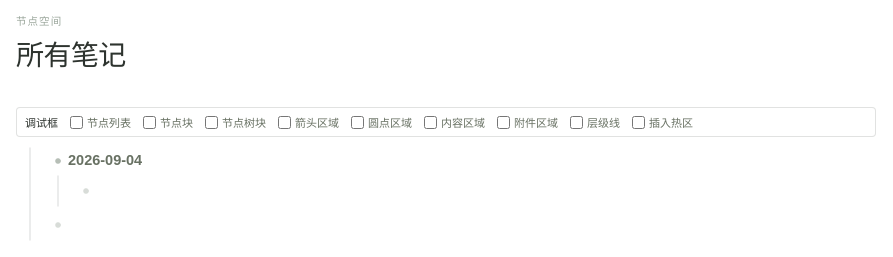
Test: NotebookPanel node range selection › draws one debug block for every rendered node row
The image size is (893, 257).
Click the checkbox labelled "节点块". click: x=150, y=122
box: [143, 116, 156, 128]
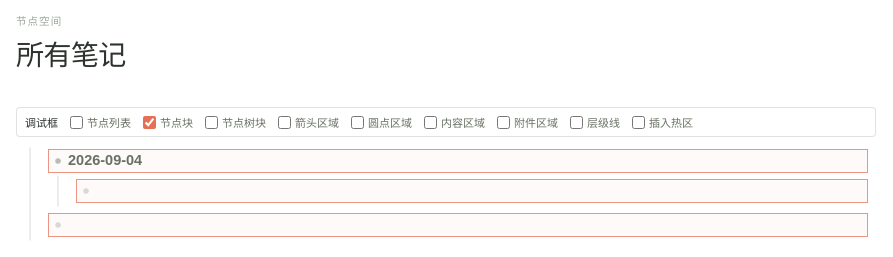
Now the number of elements with class "node-layout-box" is 3, box [48, 149, 868, 173]; [76, 179, 868, 203]; [48, 213, 868, 237]
